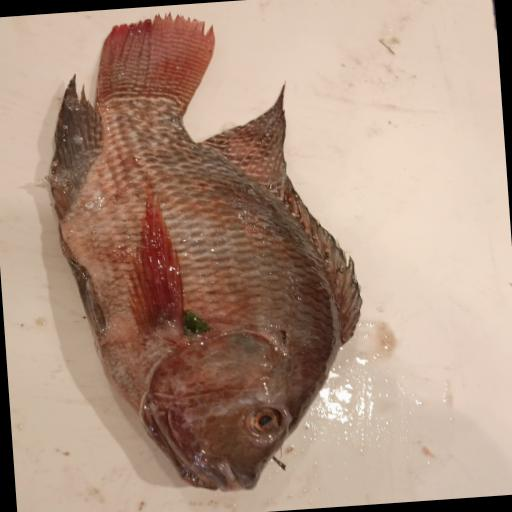Tilapia: (38, 0, 377, 503)
